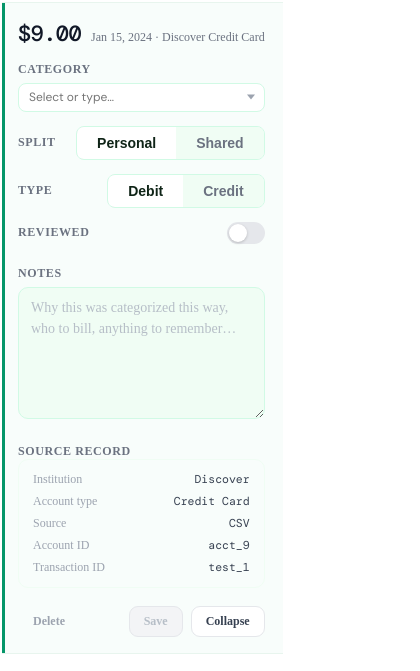
Test case: Save is disabled until the form is dirty, then shows the dirty marker and Cancel
This screenshot has width=420, height=671.
Check: the button "Save" is disabled, box [129, 606, 183, 637]
Check: the text "Unsaved changes" is not shown
Replace the text in the text box labelled "Notes" with "hello": [141, 353] box [18, 287, 265, 419]
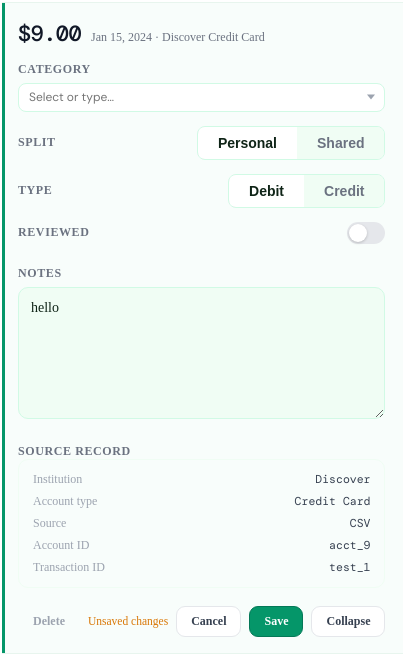
Check: the button "Save" is enabled, box [250, 606, 304, 637]
Check: the text "Unsaved changes" is shown, box [88, 615, 168, 627]
Check: the button "Cancel" is shown, box [176, 606, 241, 637]
